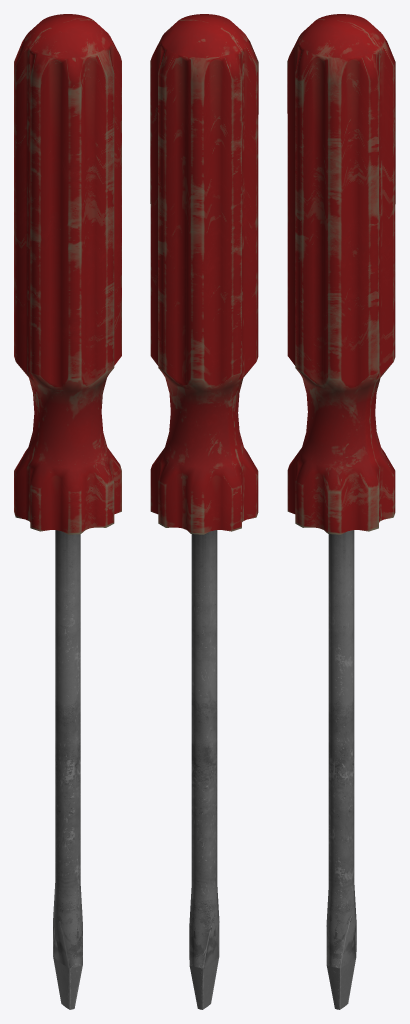
Rendered from Screwdriver.fbx.
3 views of the same model, side by side, from view 1: azimuth 30°, elevation 25°; view 2: azimuth 150°, elevation 25°; view 3: azimuth 330°, elevation 25° (orthographic).
Visible parts, largest first — view 1: Screwdriver; view 2: Screwdriver; view 3: Screwdriver.
Boxes of the visible parts, x1,y1,x2,y2 form: Screwdriver: (14,14,121,1009); Screwdriver: (150,14,258,1009); Screwdriver: (287,14,395,1009).
Bounding box in the file's own units: 0.0197 × 0.0197 × 0.2056.
Materials: 1 (1 with a texture image).
